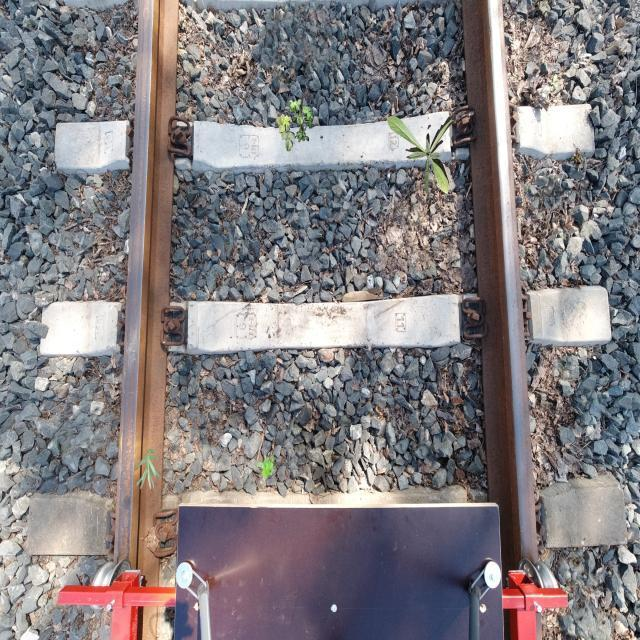Plant: (387, 114, 458, 195), (276, 97, 314, 152), (135, 449, 162, 491), (255, 454, 276, 479)
